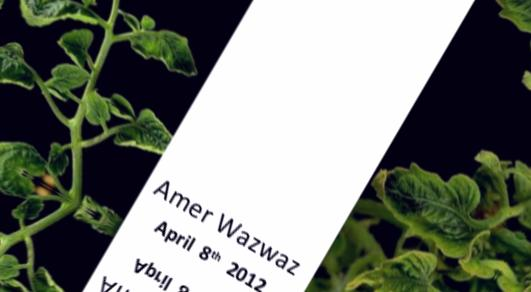Tomato leaf yellow virus: (366, 141, 504, 265), (337, 225, 476, 292), (119, 5, 219, 89), (28, 0, 106, 57)
